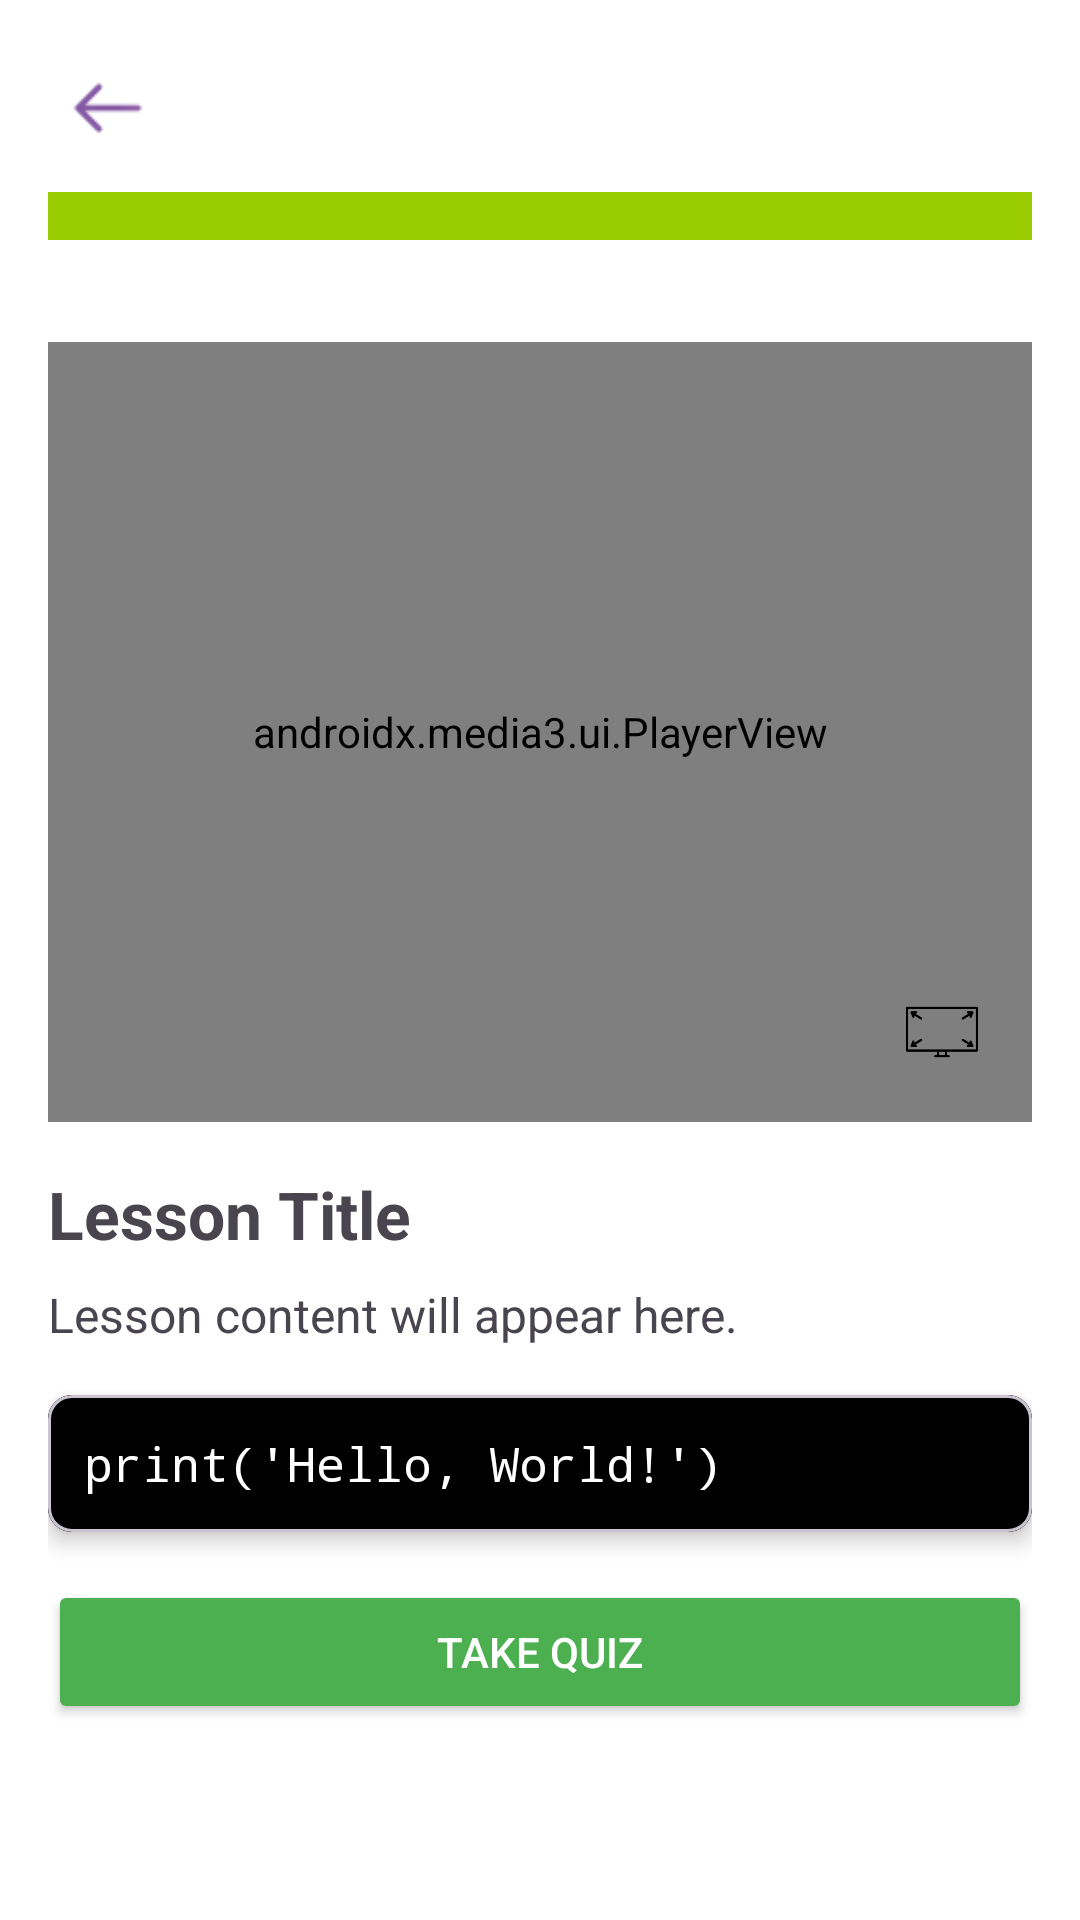

Icons on this 1080×1920 Android screen, each with its box as (x1, y1, x2, y2):
Back Button: (74, 83, 142, 133)
Full Screen: (906, 1007, 978, 1057)
